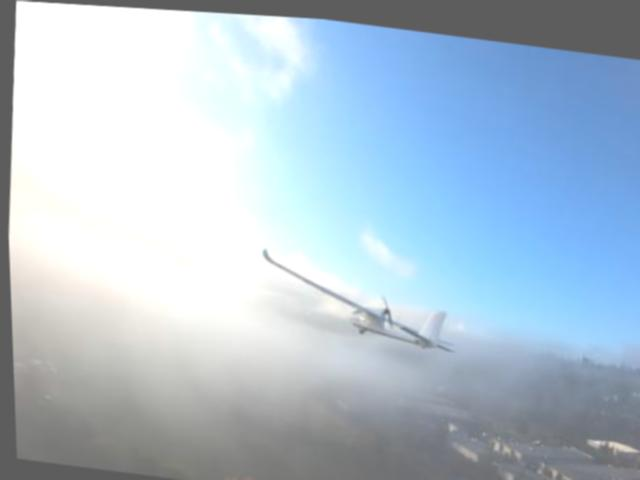uav: (248, 238, 465, 368)
